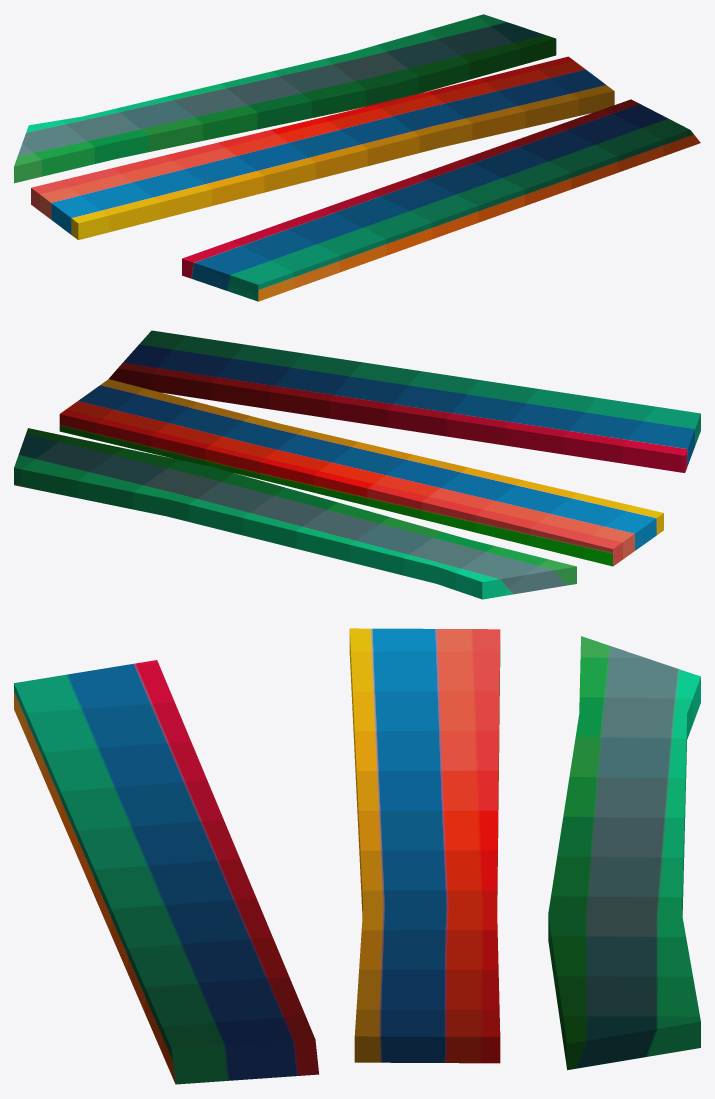
File: WoodBeam.FBX
3 views of the same model, one above another, from view 1: azimuth 30°, elevation 25°; view 2: azimuth 150°, elevation 25°; view 3: azimuth 270°, elevation 25° (orthographic). The views are drawn at different scales.
Visible parts, largest first — view 1: WoodBeam; view 2: WoodBeam; view 3: WoodBeam.
Part boxes in pixels (x1,y1,x2,y2): WoodBeam: (14, 14, 700, 301); WoodBeam: (14, 330, 700, 599); WoodBeam: (14, 628, 700, 1084).
Bounding box in the file's own units: 177 × 5.04 × 120.
1 material, 1 textured.
